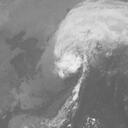cyclone: (53, 34, 90, 79)
